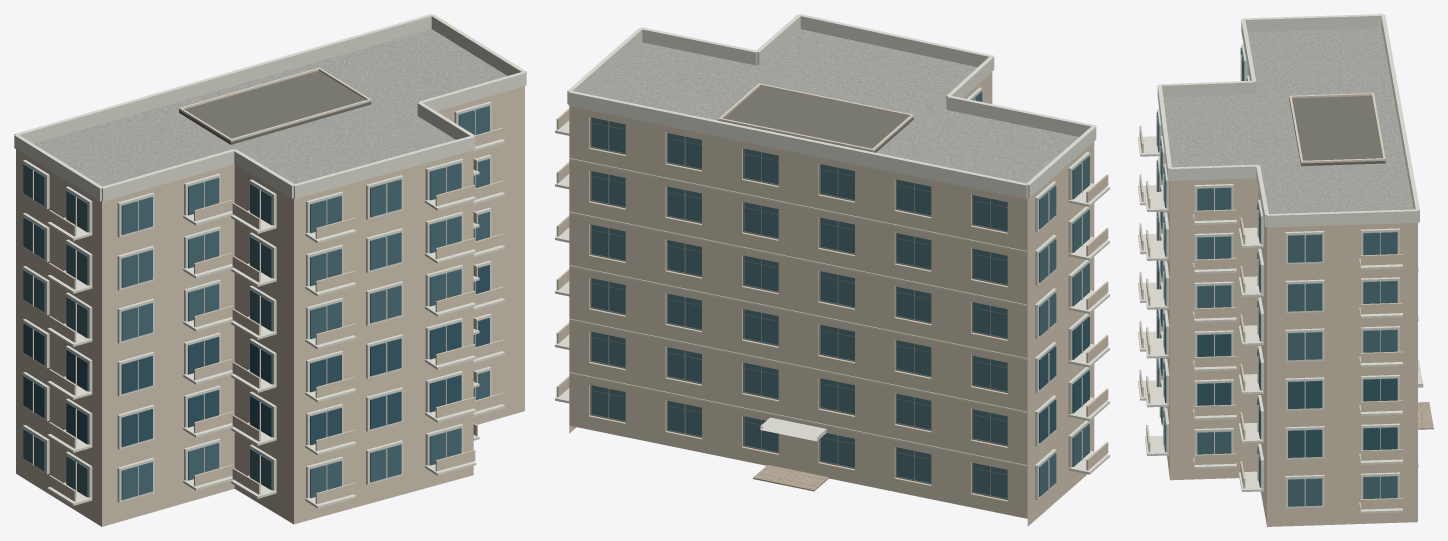
The model's file is chunk-dorm-way-760176668.glb.
3 renders of one model, left to right at view 1: azimuth 30°, elevation 25°; view 2: azimuth 150°, elevation 25°; view 3: azimuth 270°, elevation 25°, orthographic. The views are drawn at different scales.
Parts seen in each view (by area): view 1: chunk-dorm-way-760176668; view 2: chunk-dorm-way-760176668; view 3: chunk-dorm-way-760176668.
Boxes of the visible parts, x1,y1,x2,y2 form: chunk-dorm-way-760176668: [14, 14, 526, 526]; chunk-dorm-way-760176668: [555, 14, 1109, 526]; chunk-dorm-way-760176668: [1138, 14, 1433, 526].
Bounding box in the file's own units: 30.96 × 21.1 × 18.13.
10 materials, 2 textured.
